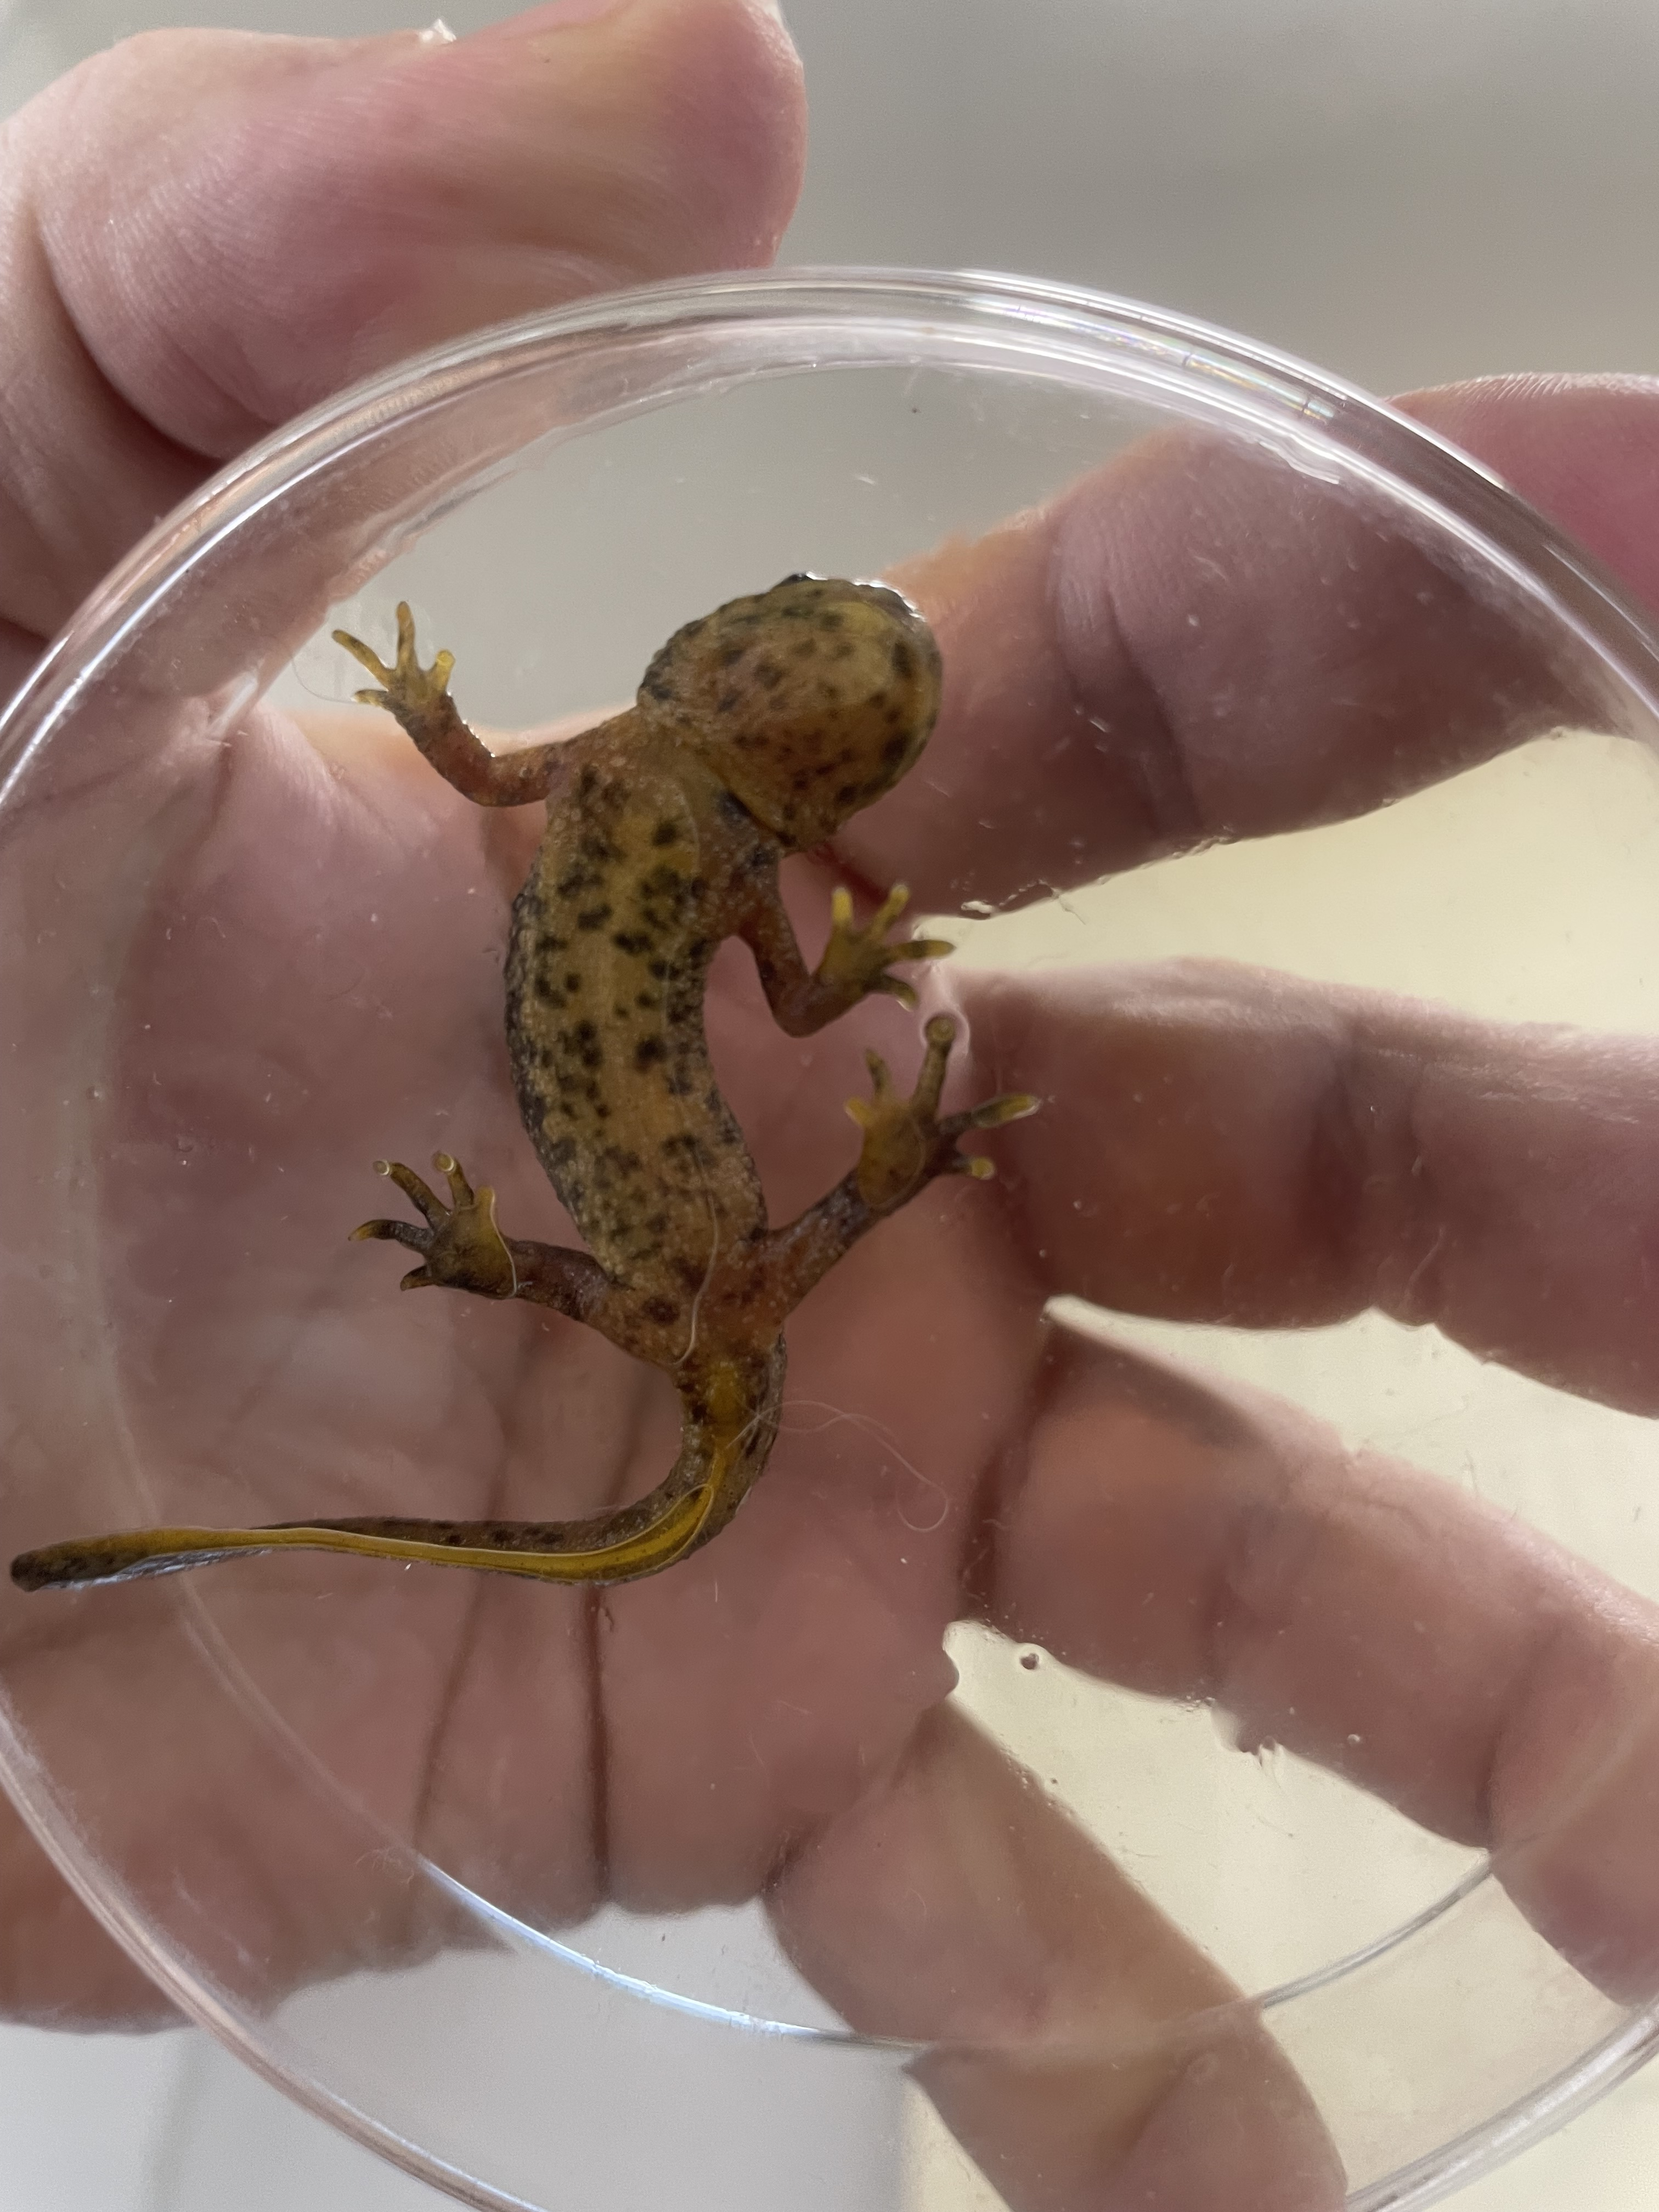newt_ribbed: (507, 801, 770, 1280)
